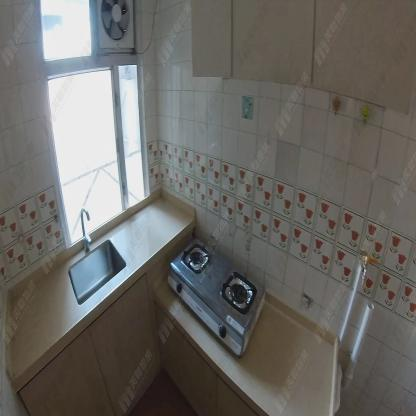Exhaust Fan: (93, 0, 135, 56)
Faucet: (74, 203, 95, 250)
Sink: (57, 227, 142, 332)
Stove: (161, 229, 268, 369)
